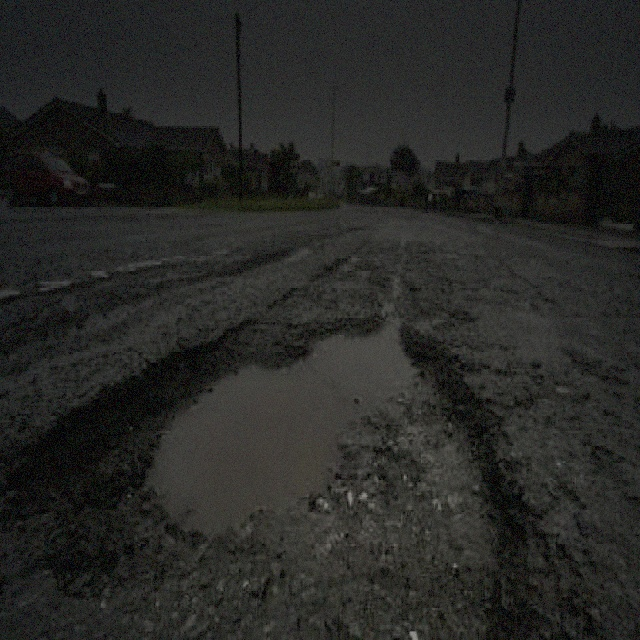pothole: (0, 303, 532, 638)
